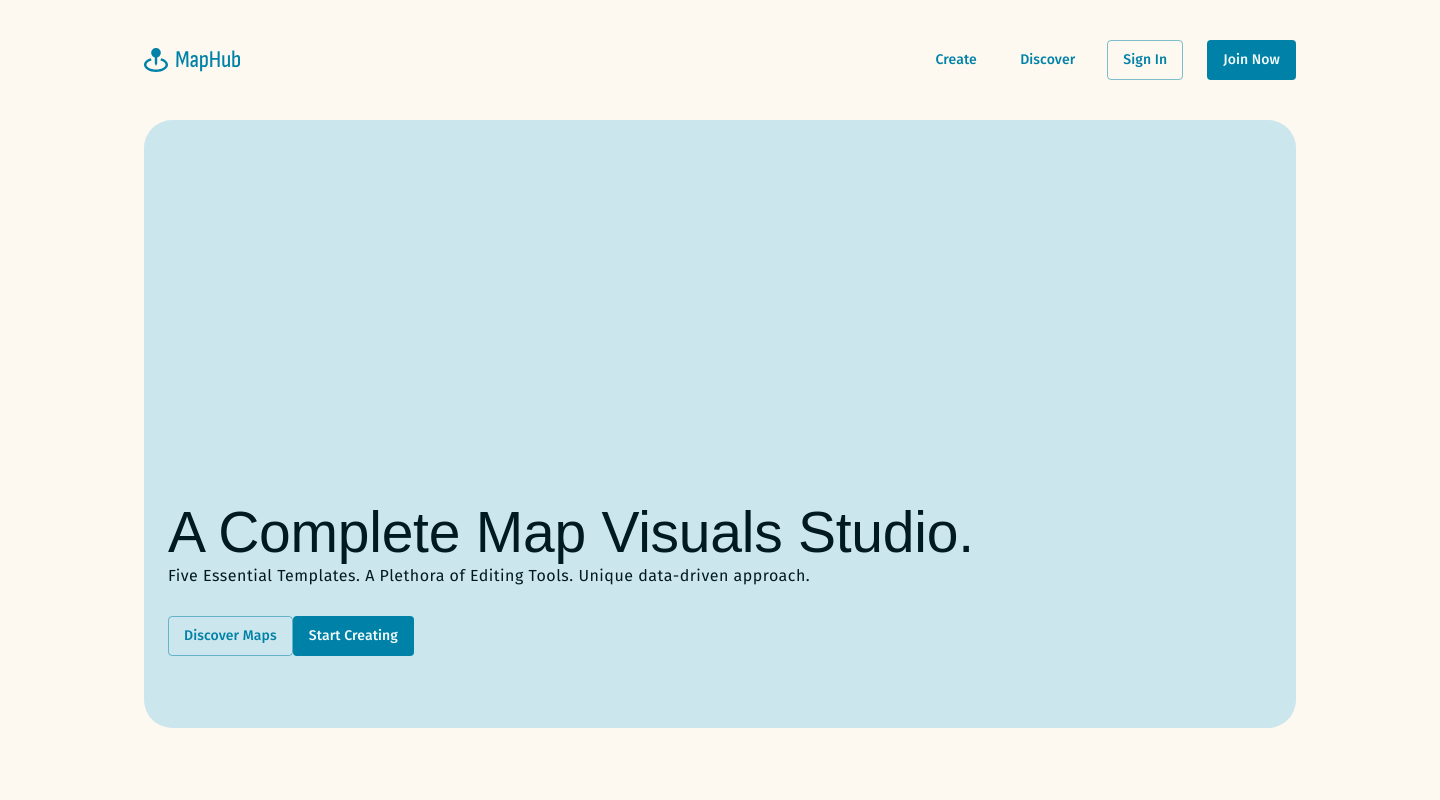
Test: enter in fake account details › should logout properly
Click the button "Sign In" at point(1145, 60), box [1107, 40, 1183, 80]
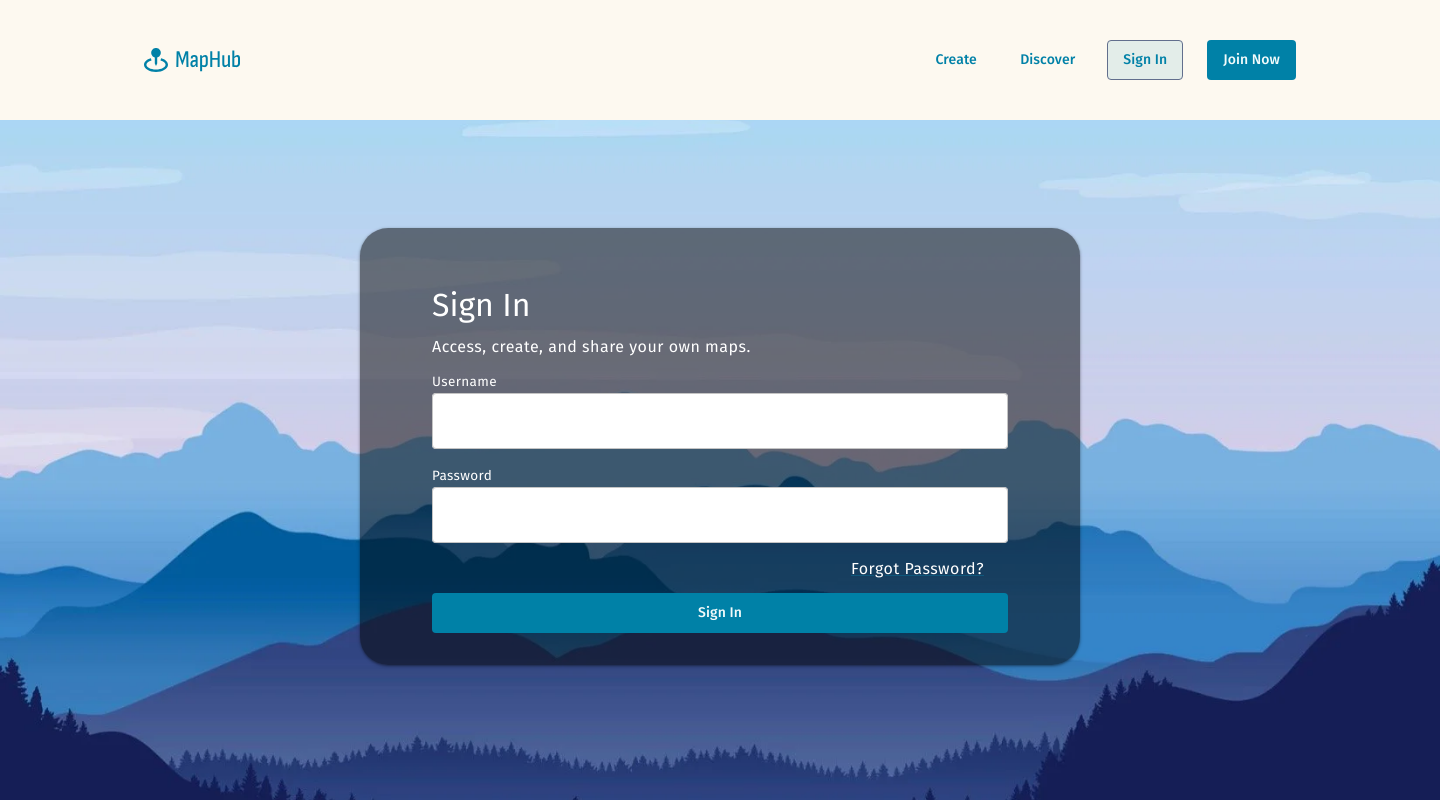
Type "abc123" into the field with id "username" at point(720, 421), box [432, 393, 1008, 449]
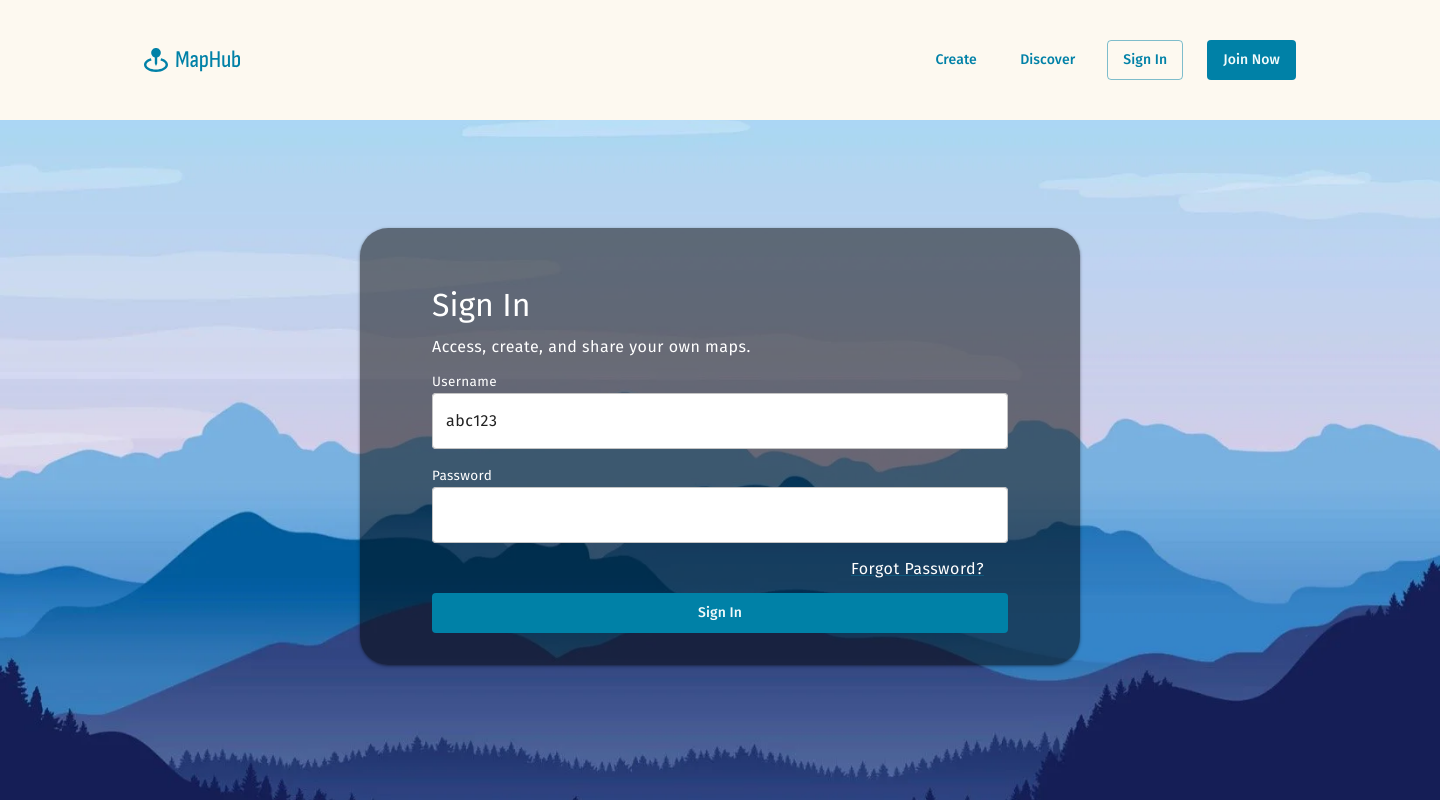
Type "Coolguy64" into the password field labelled "Password" at point(720, 515), box [432, 487, 1008, 543]
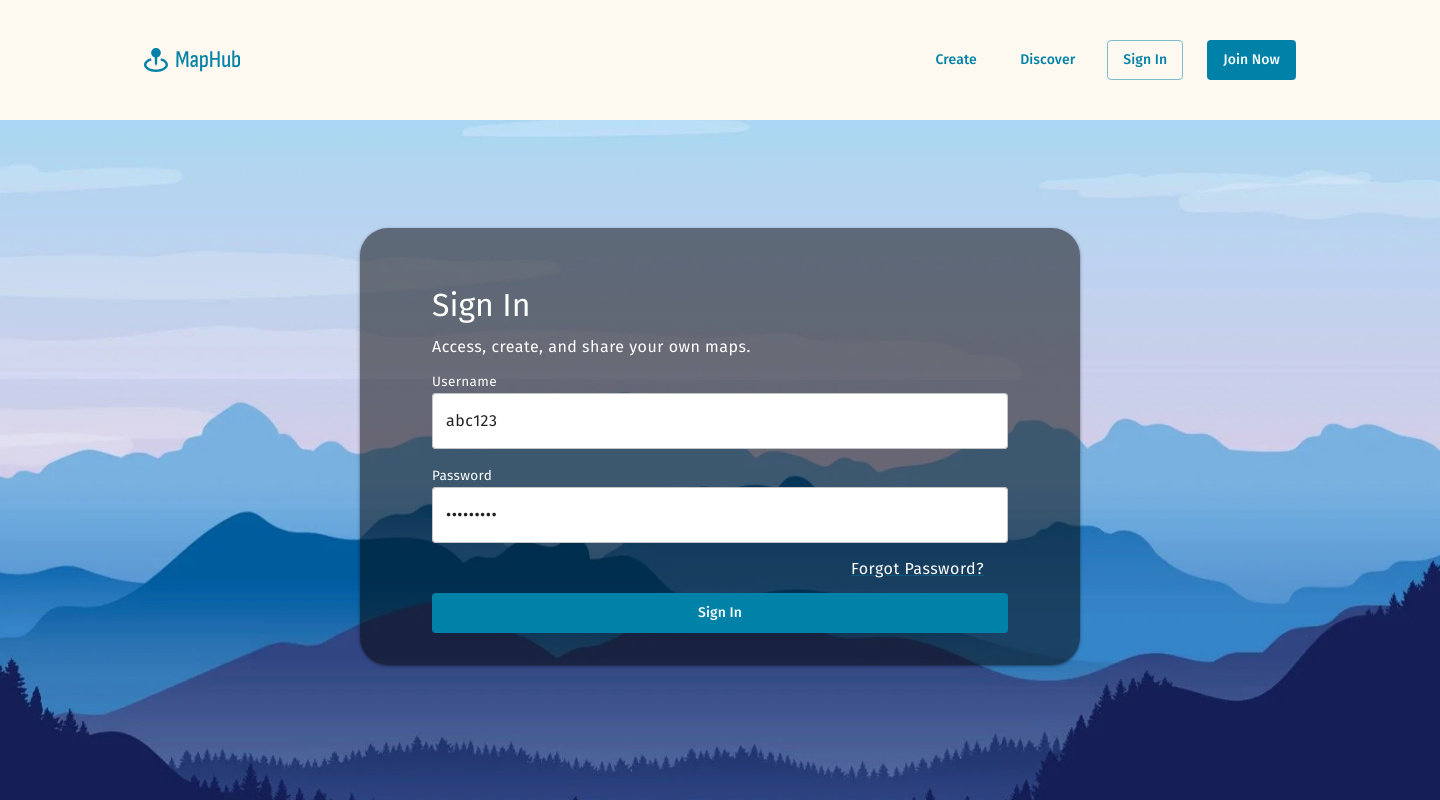
Click the button with id "sign-in-confirm" at point(720, 613), box [432, 593, 1008, 633]
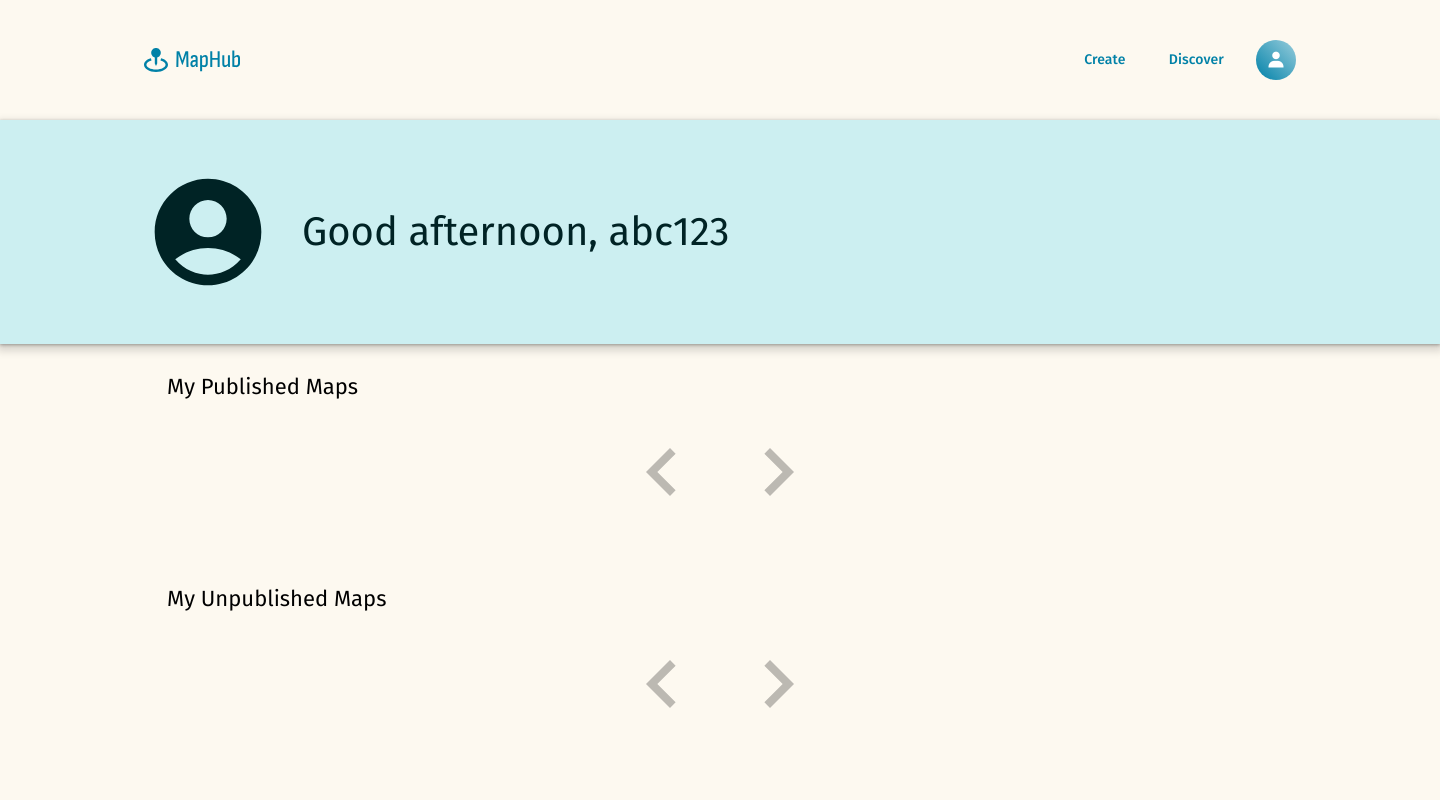
Click the 3rd button at point(1276, 60), box [1256, 40, 1296, 80]
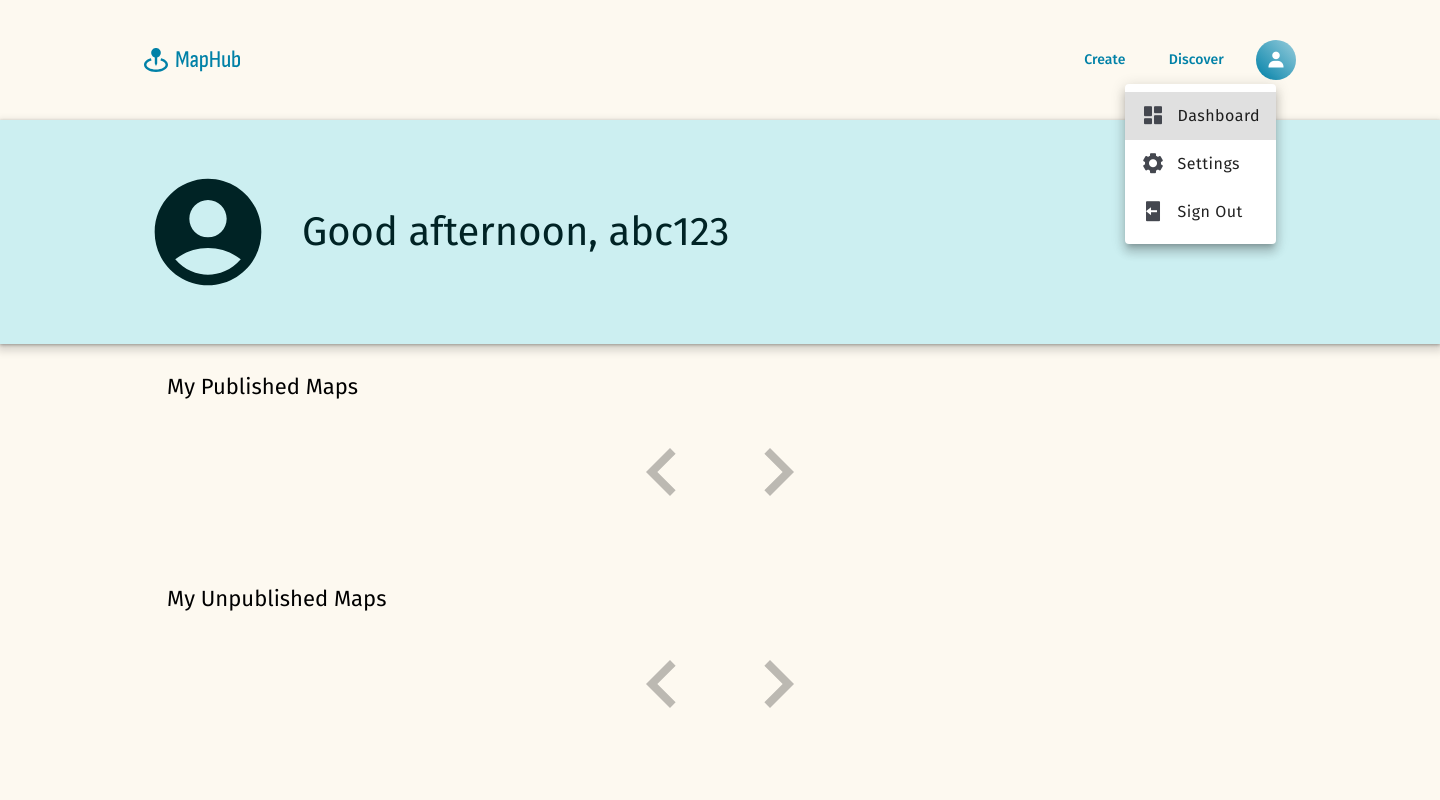
Click the menu item with id "account-sign-out" at point(1192, 212), box [1141, 200, 1243, 224]
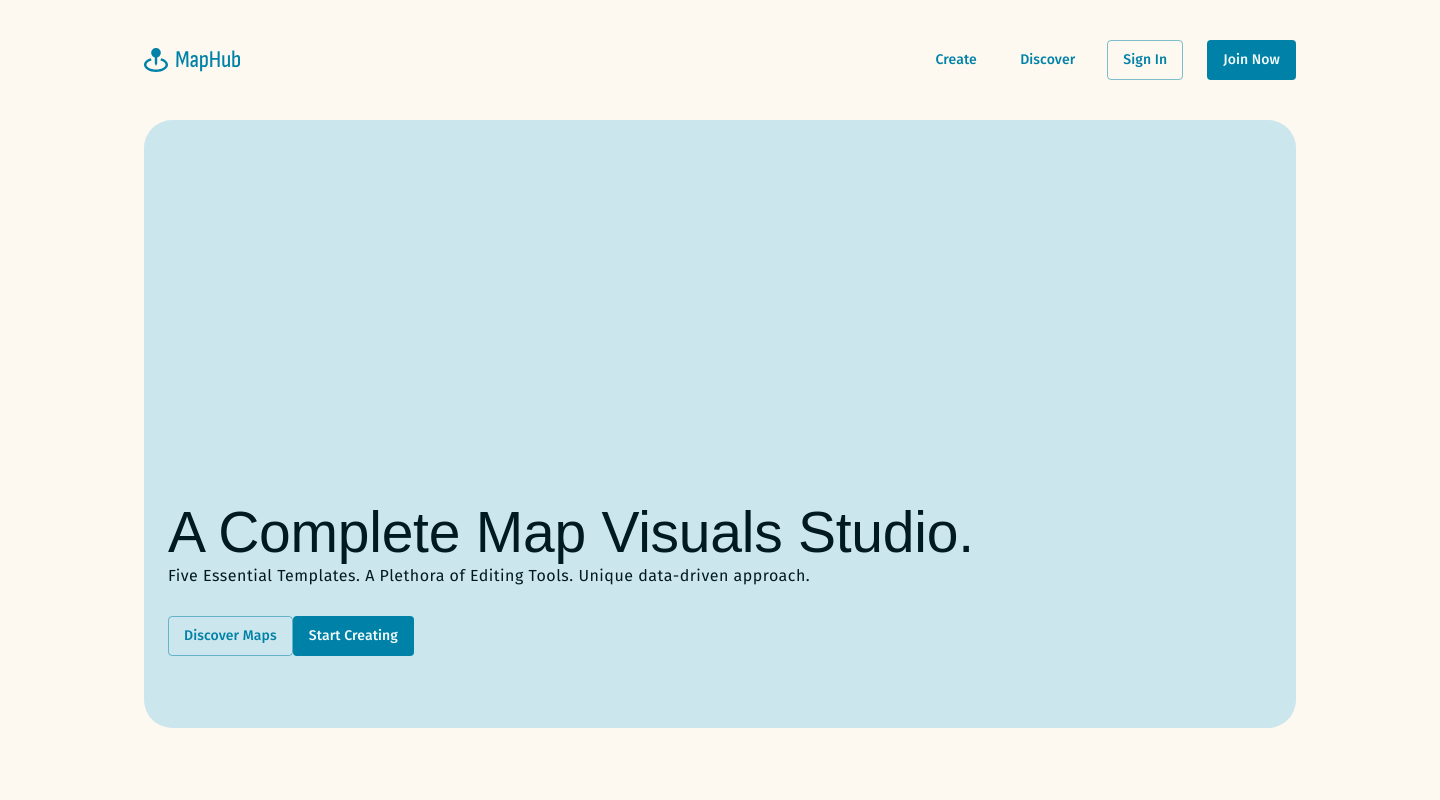
Expected: the link with id "signin" is shown, [1107, 40, 1183, 80]
Expected: the link with id "join-now" is shown, [1207, 40, 1296, 80]
